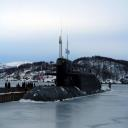submarine: (18, 28, 114, 107)
